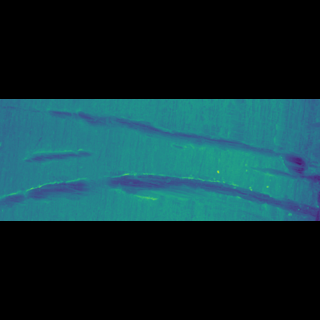Loch: (1, 136, 318, 171), (0, 163, 318, 182), (21, 154, 98, 163)
